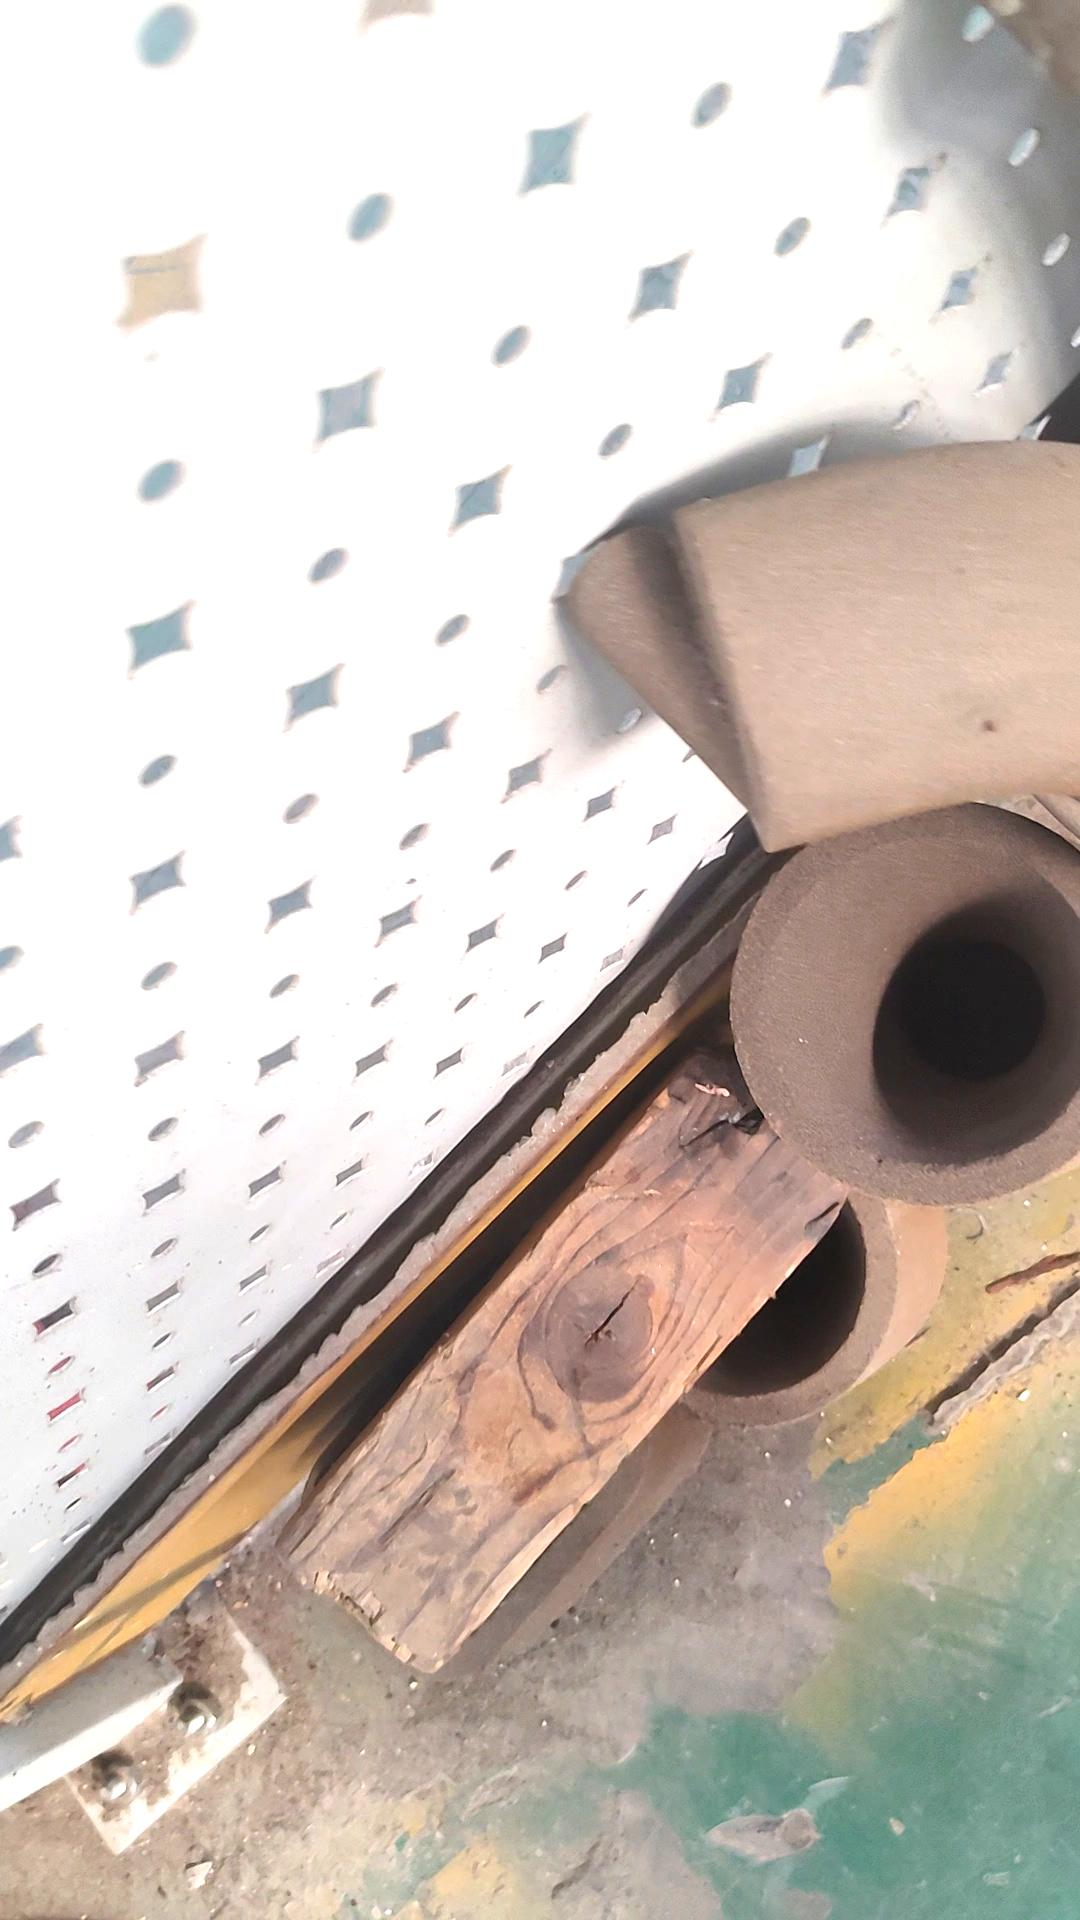pouring hole: (764, 835, 1080, 1167), (617, 1126, 866, 1399)
